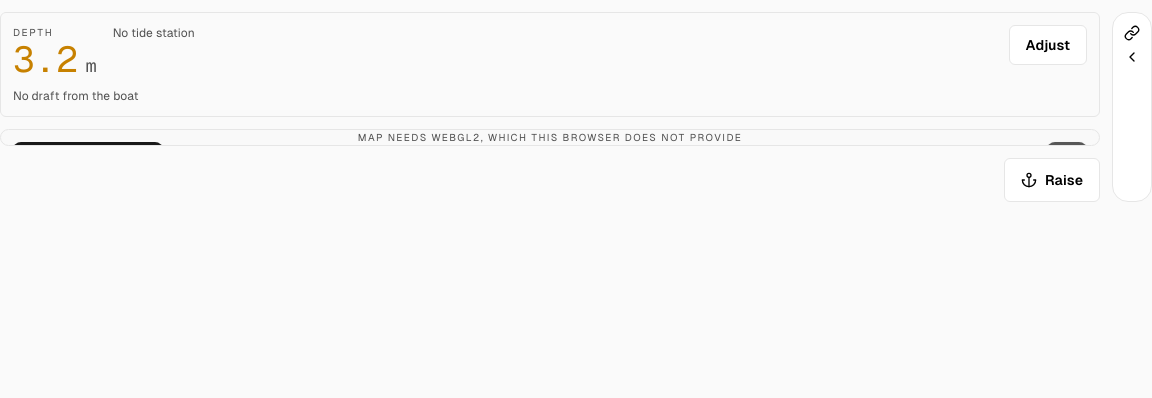
Test: AnchorWatchDrawer Adjust mode — radius toolbar and disabled reasons › names the ceiling differently with no boat length resolved
What coordinates should you click on to do the following:
click the button "Adjust"
I would click on:
 (1048, 45)
Its box is [1009,25,1087,65].
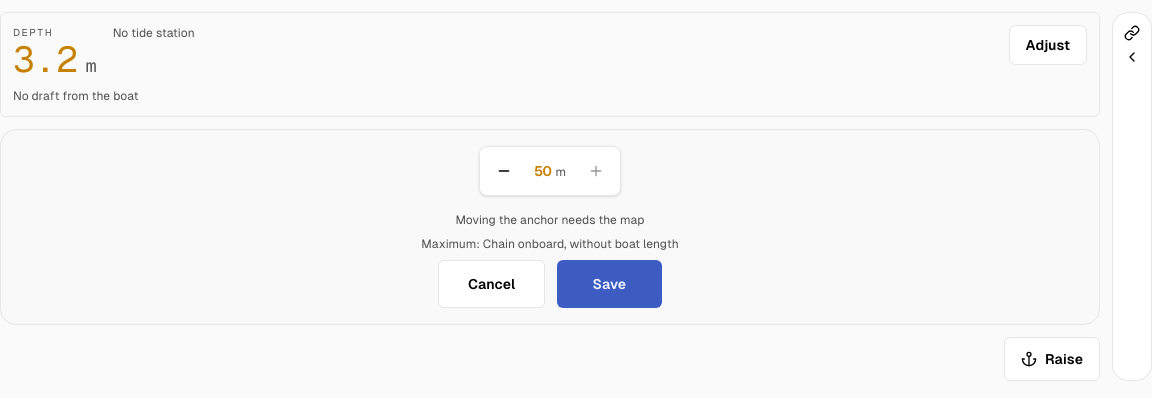
Now the button named "Increase radius" is disabled, box [576,151,616,191]
Now the text with test id "anchor-adjust-reasons" reads "Maximum: Chain onboard, without boat length", box [421,237,679,251]
